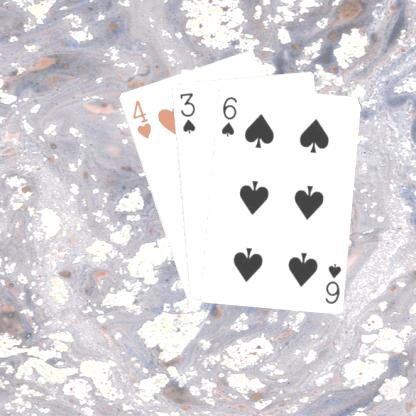3S: (176, 90, 197, 134)
4H: (129, 97, 153, 140)
6S: (322, 260, 342, 305), (218, 94, 238, 138)
